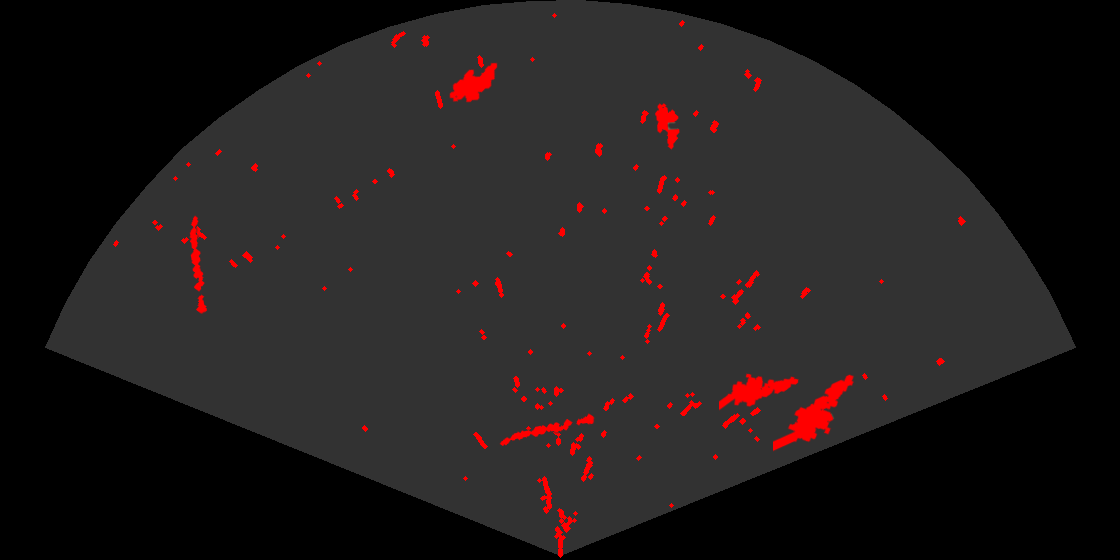AUV: (448, 61, 499, 104), (654, 102, 681, 151)
chain: (498, 412, 597, 447), (188, 214, 209, 316)
frogman: (773, 373, 856, 453), (719, 372, 800, 412)
